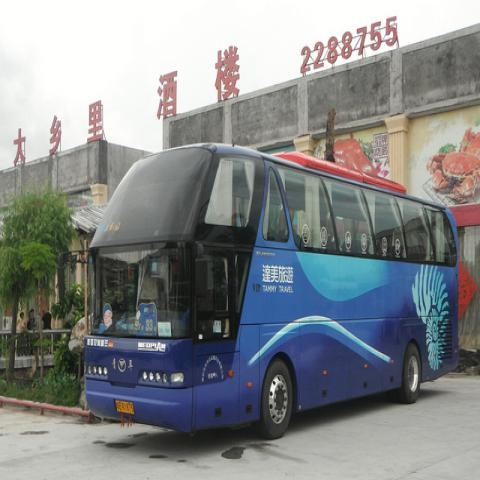bus: (58, 140, 460, 439)
